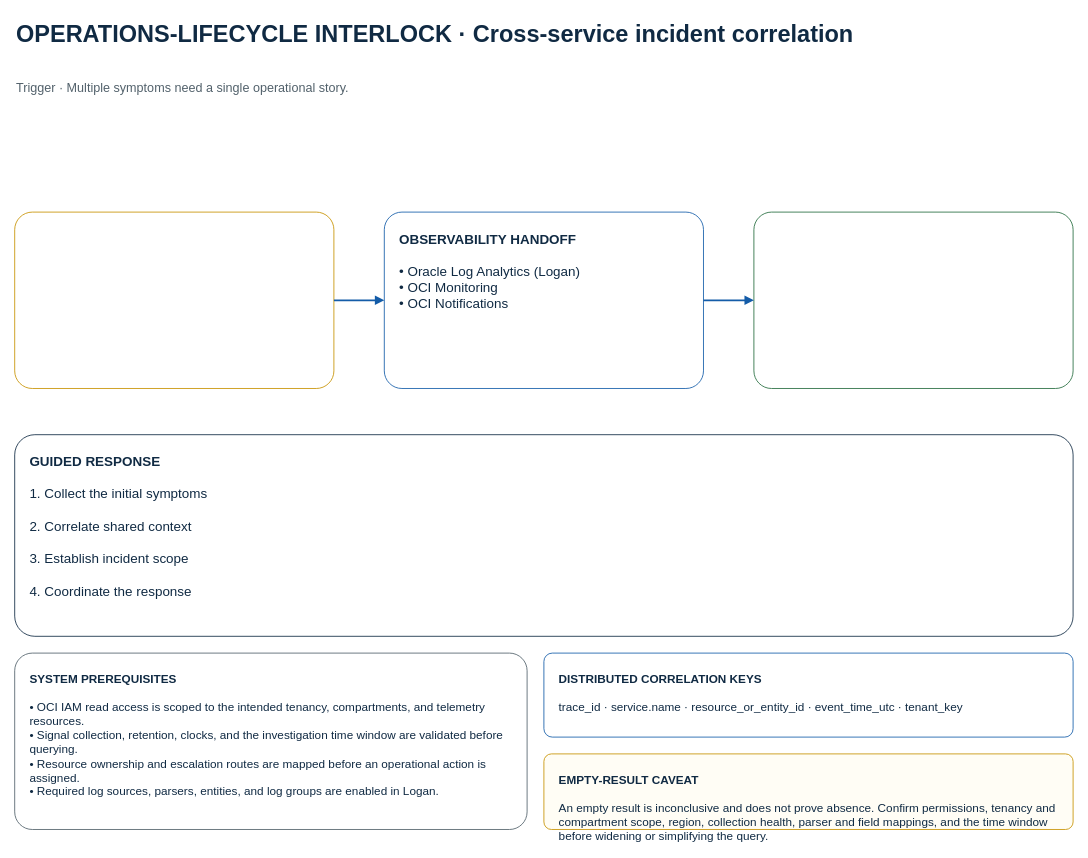
The diagram is 1088 pixels wide and 858 high, and some of its shapes have lost their labels. Here are the shapes that lost their labels. From the top down, the box of each, then its label:
(14, 211, 334, 388): SOURCE EVIDENCE • Alarms • Logs • Topology and ownership context
(753, 211, 1073, 388): OPERATIONAL OUTCOME • Reduce noise into a prioritized incident response.
